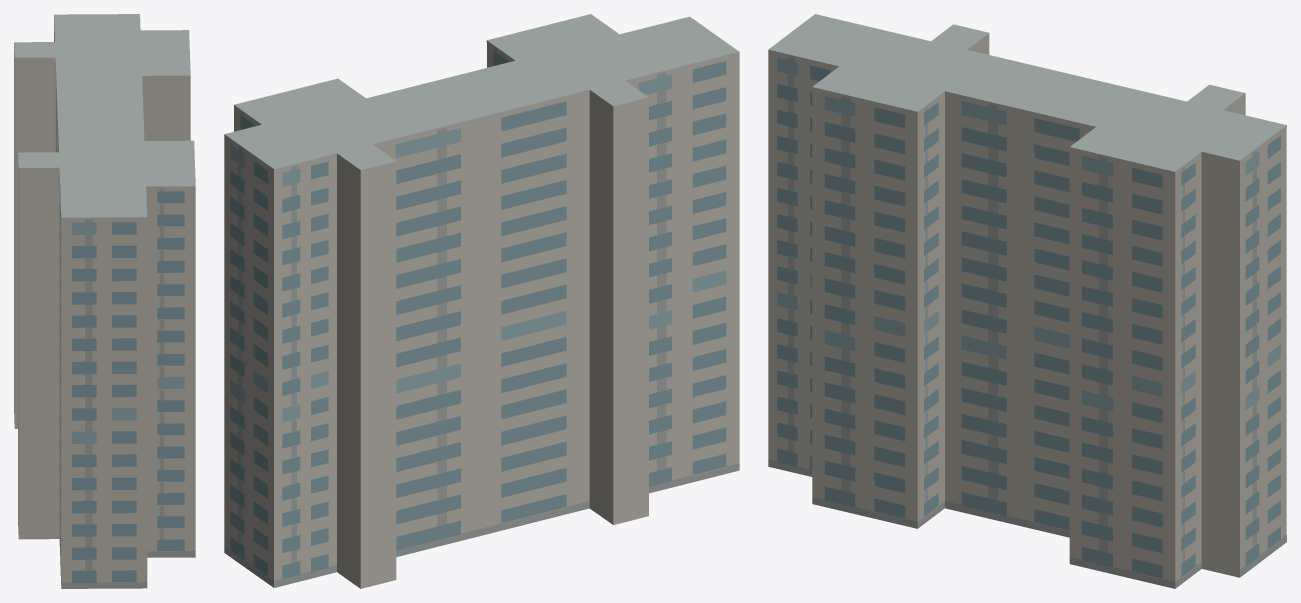
File: residential-17312fe1-1fef-4596-9d20-5130111172be.glb
3 views of the same model, side by side, from view 1: azimuth 30°, elevation 25°; view 2: azimuth 150°, elevation 25°; view 3: azimuth 270°, elevation 25° (orthographic). The views are drawn at different scales.
Parts seen in each view (by area): view 1: residential-17312fe1-1fef-4596-9d20-5130111172be.tmp; view 2: residential-17312fe1-1fef-4596-9d20-5130111172be.tmp; view 3: residential-17312fe1-1fef-4596-9d20-5130111172be.tmp.
Boxes of the visible parts, box(x1,y1,x2,y2) form: residential-17312fe1-1fef-4596-9d20-5130111172be.tmp: box(14, 14, 195, 588); residential-17312fe1-1fef-4596-9d20-5130111172be.tmp: box(224, 14, 739, 588); residential-17312fe1-1fef-4596-9d20-5130111172be.tmp: box(768, 14, 1286, 588).
Size of the model in its own units: 39.63 by 48.8 by 55.
